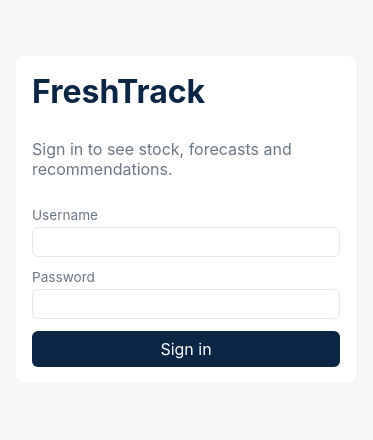
Test: Login › shows a generic error on a wrong password
Type "manager" into the field labelled "Username" at (186, 242), box [32, 226, 340, 256]
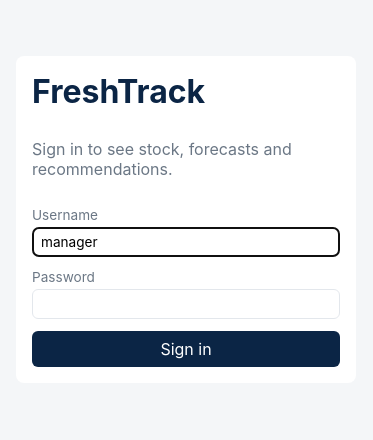
Type "bad" into the password field labelled "Password" at (186, 304), box [32, 288, 340, 318]
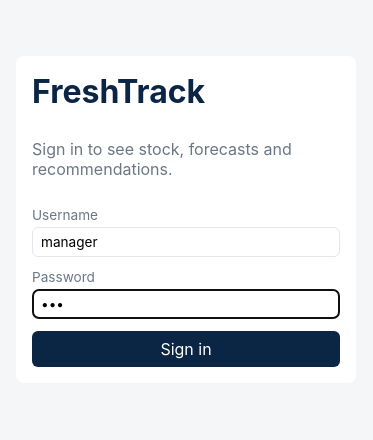
Click the button "Sign in" at (186, 348), box [32, 330, 340, 366]
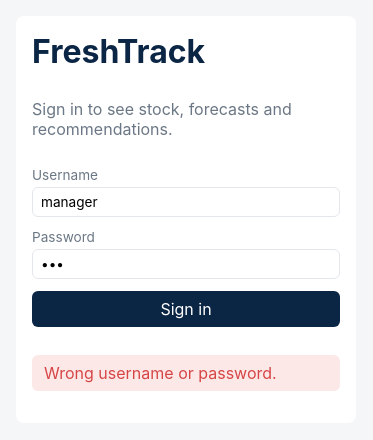
Expected: the message reads "Wrong username or password.", [44, 362, 277, 382]
